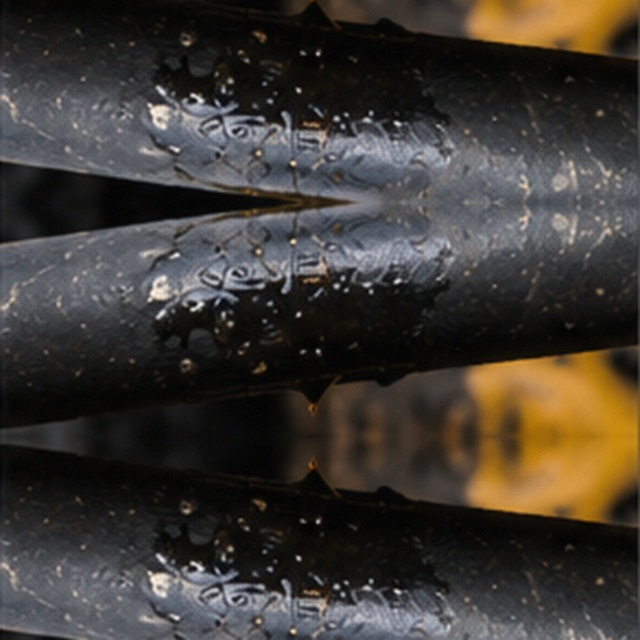hydraulic_oil_leak: (186, 210, 422, 424)
